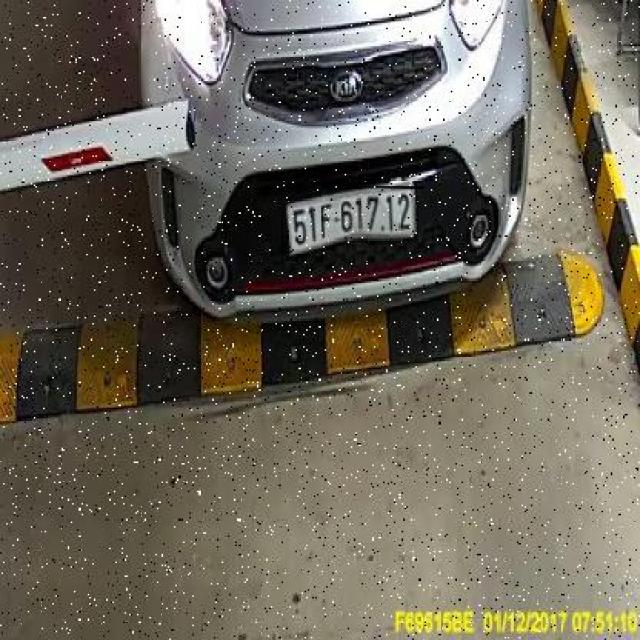number_plate: (282, 186, 423, 254)
